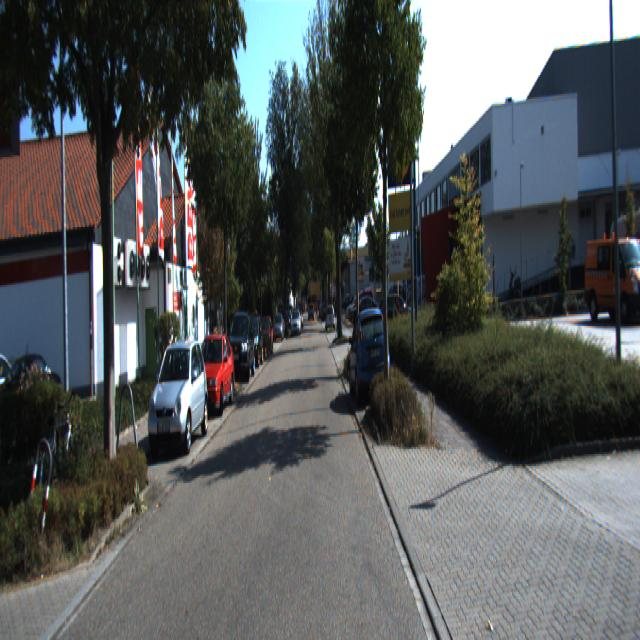Car: (147, 333, 208, 454), (348, 305, 391, 405), (190, 332, 234, 418), (0, 347, 35, 430), (226, 310, 256, 386), (241, 312, 264, 369)
DontCare: (268, 288, 338, 356), (354, 272, 415, 331)
Van: (583, 220, 640, 321)
